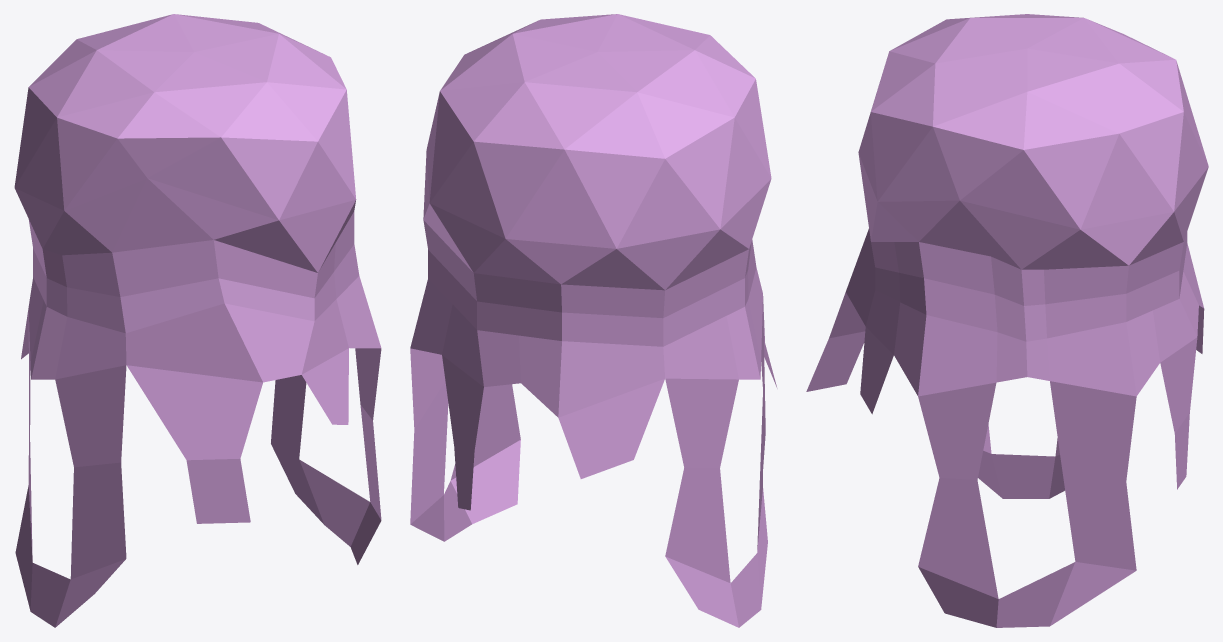
Rendered from sacola.fbx.
3 views of the same model, side by side, from view 1: azimuth 30°, elevation 25°; view 2: azimuth 150°, elevation 25°; view 3: azimuth 270°, elevation 25° (orthographic).
Parts seen in each view (by area): view 1: Icosphere.003; view 2: Icosphere.003; view 3: Icosphere.003.
Boxes of the visible parts, x1,y1,x2,y2 form: Icosphere.003: (14, 14, 381, 627); Icosphere.003: (410, 14, 777, 627); Icosphere.003: (806, 14, 1208, 627).
Size of the model in its own units: 54.88 by 85.72 by 59.7.
